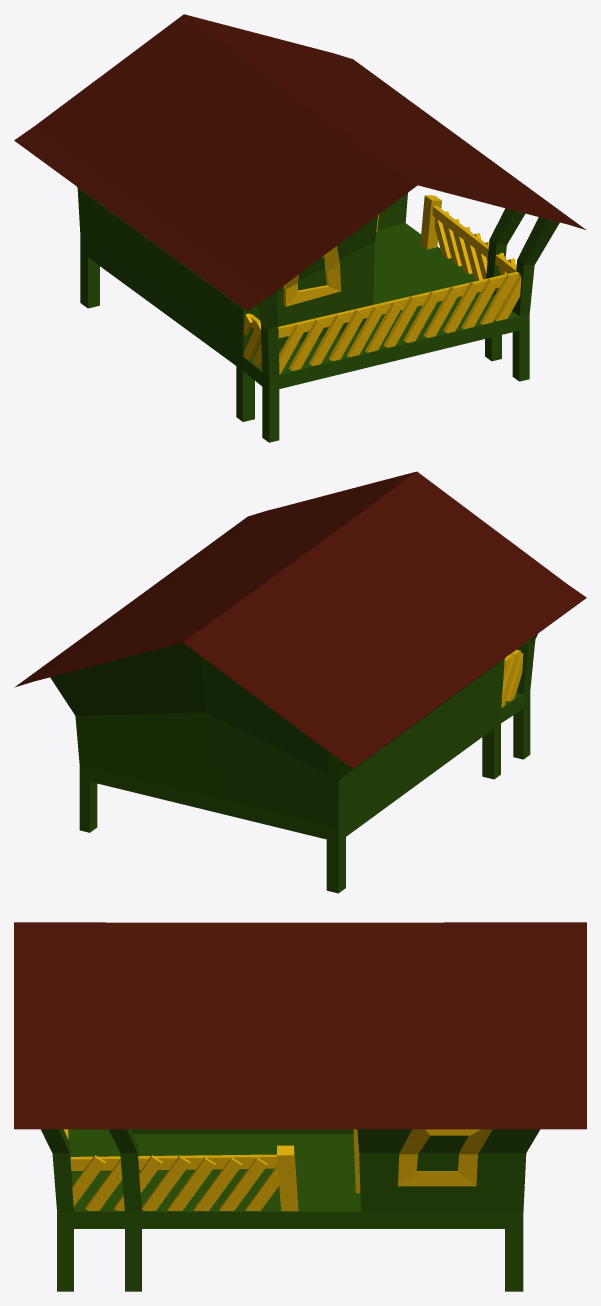
File: casa1-0-2.fbx
3 views of the same model, one above another, from view 1: azimuth 30°, elevation 25°; view 2: azimuth 150°, elevation 25°; view 3: azimuth 270°, elevation 25° (orthographic). The views are drawn at different scales.
Parts seen in each view (by area): view 1: Cube; view 2: Cube; view 3: Cube.
Part boxes in pixels (box(x1,y1,x2,y2)): Cube: box(14, 14, 585, 442); Cube: box(14, 471, 586, 893); Cube: box(14, 922, 586, 1291).
Size of the model in its own units: 1136 by 763 by 1357.
